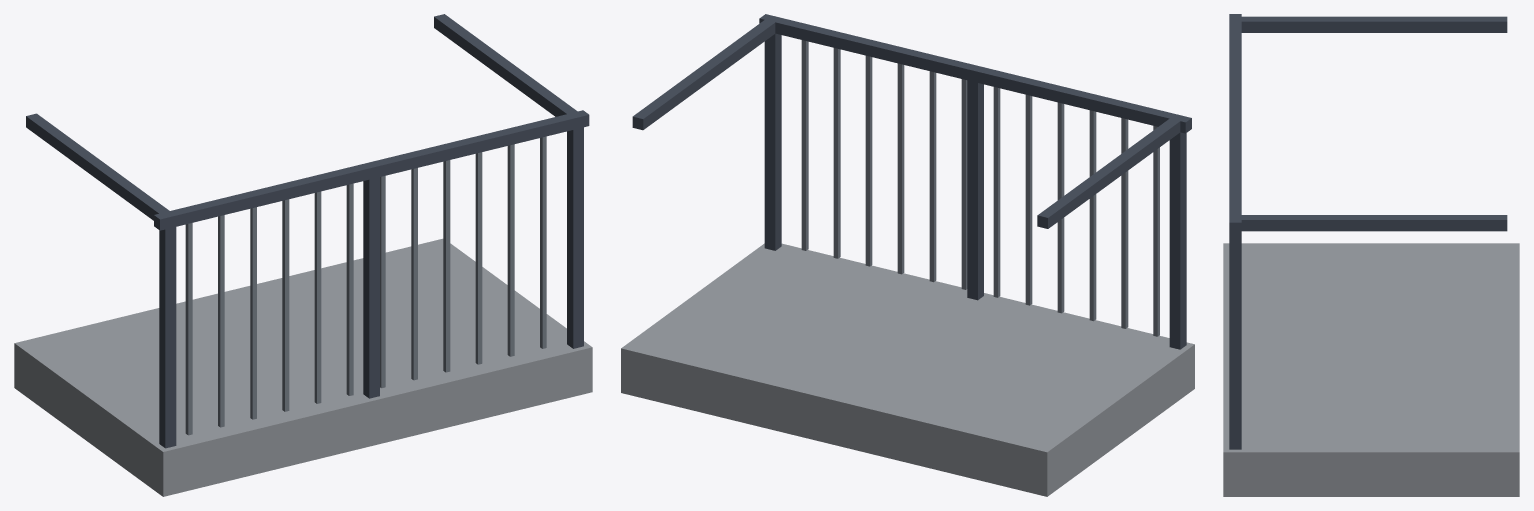
Rendered from balcony.glb.
3 renders of one model, left to right at view 1: azimuth 30°, elevation 25°; view 2: azimuth 150°, elevation 25°; view 3: azimuth 270°, elevation 25°, orthographic.
Parts seen in each view (by area): view 1: balcony; view 2: balcony; view 3: balcony.
Boxes of the visible parts, box(x1,y1,x2,y2) form: balcony: box(14, 14, 592, 496); balcony: box(621, 14, 1194, 496); balcony: box(1223, 14, 1519, 496).
Bounding box in the file's own units: 2 × 1.23 × 1.2.
